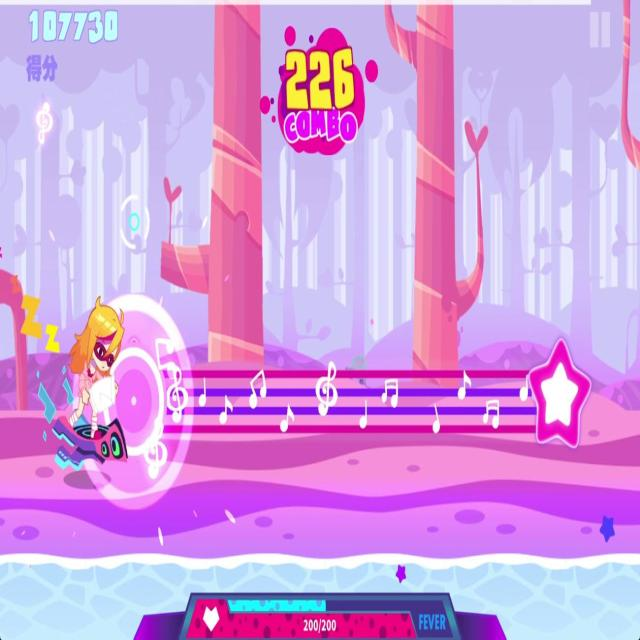hold: (121, 336, 594, 456)
